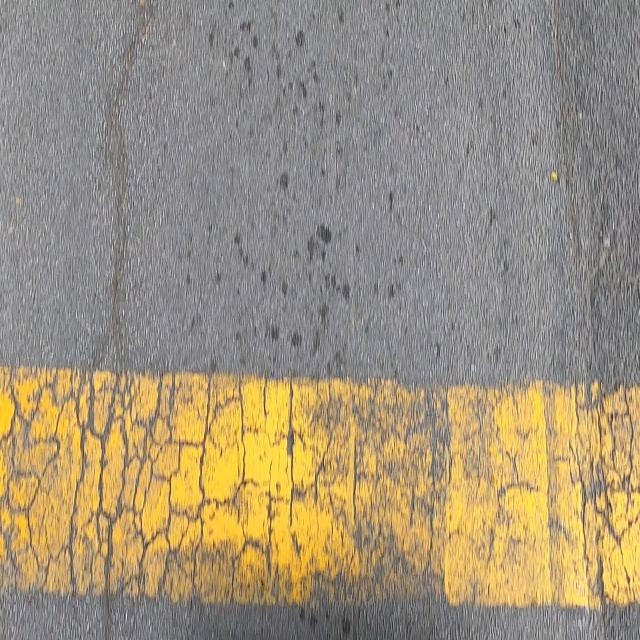Retak-Buaya: (0, 366, 448, 597), (569, 383, 639, 612)
Retak-Memanjang: (83, 0, 161, 376)
